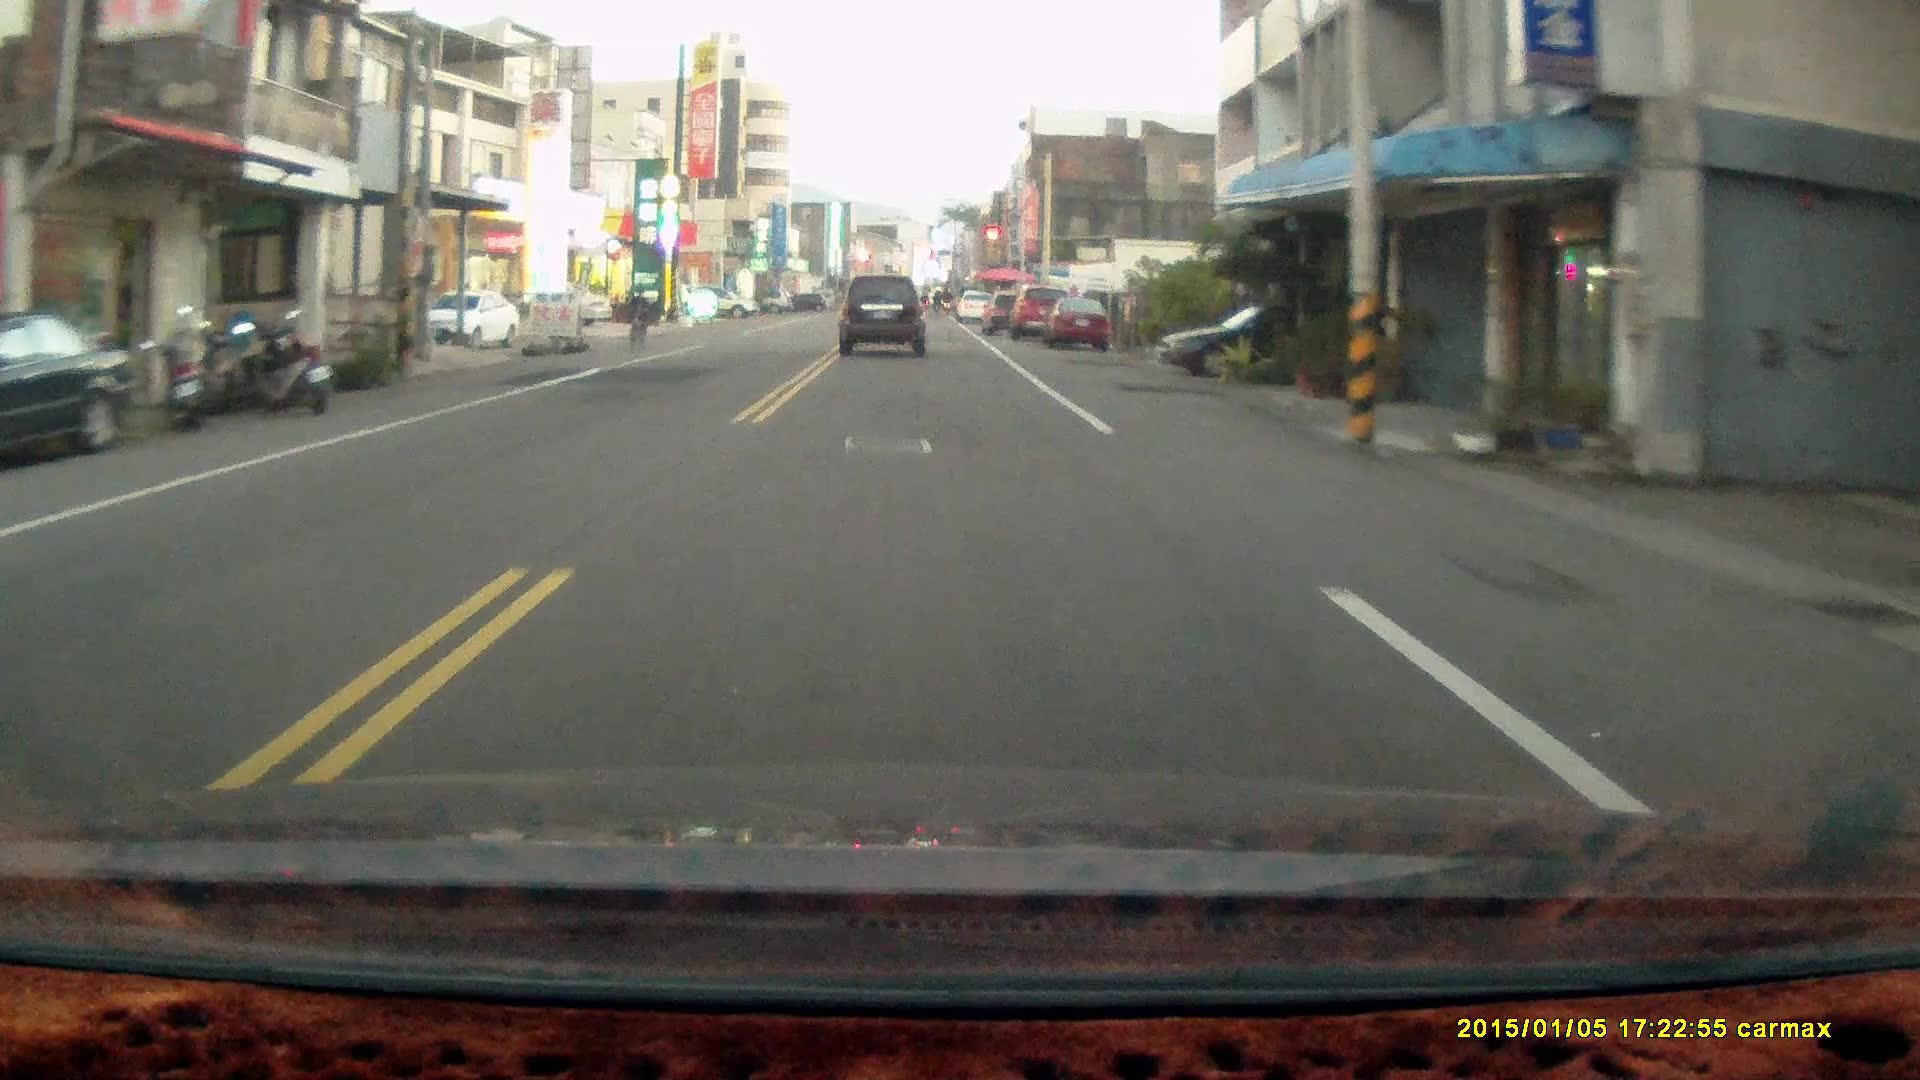rider: (625, 285, 651, 355)
vehicle: (1, 301, 143, 474), (1155, 312, 1337, 375), (838, 272, 933, 360), (424, 288, 520, 347), (1040, 295, 1110, 349)
